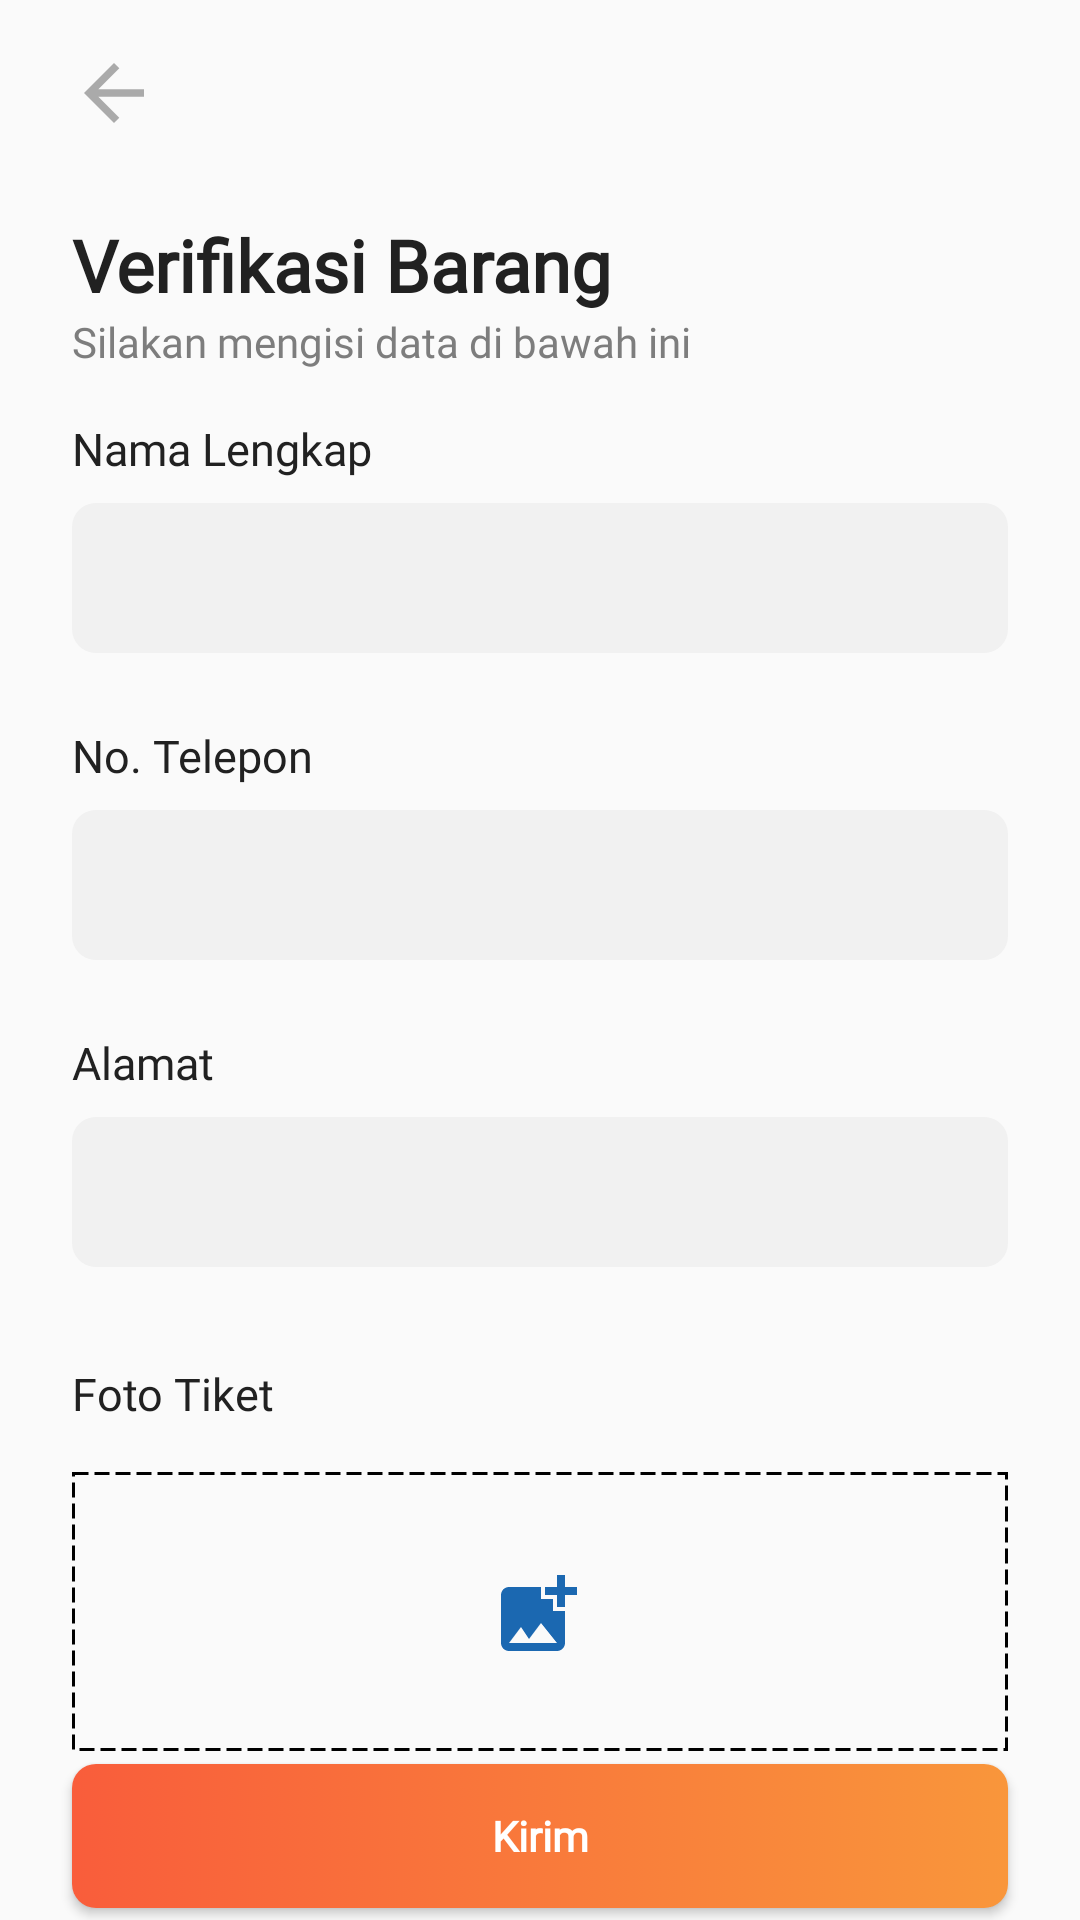

Screen size 1080px×1920px. Icon name, then its center in pixels as (x,y):
addimage: (539,1613)
